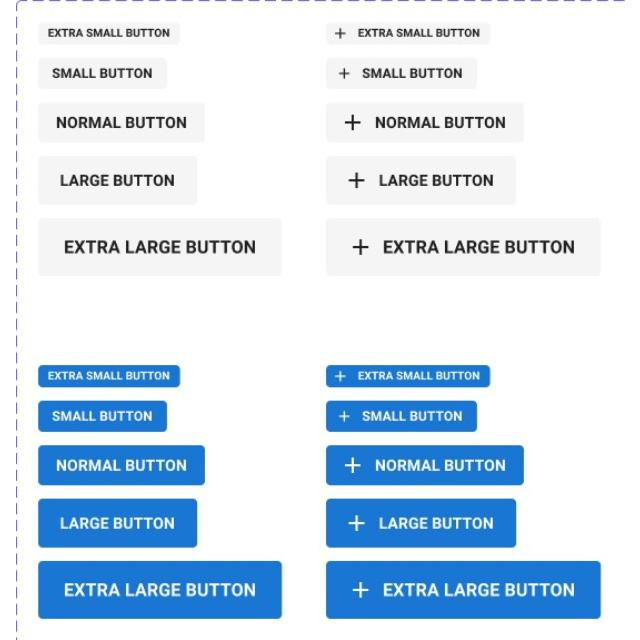QLabel: (60, 237, 260, 255), (63, 580, 260, 598), (378, 582, 576, 598), (377, 240, 575, 254), (367, 458, 505, 472), (52, 458, 188, 472), (370, 115, 504, 129), (51, 115, 188, 128), (55, 516, 177, 530), (374, 173, 494, 187), (374, 516, 494, 530), (46, 27, 170, 39), (54, 174, 178, 186), (51, 66, 152, 80), (42, 370, 174, 380), (358, 67, 466, 79), (48, 410, 156, 422), (357, 410, 465, 422), (355, 370, 481, 380), (356, 28, 480, 38)
VBtn: (324, 560, 602, 620), (324, 217, 600, 275), (36, 216, 280, 278), (36, 560, 280, 618), (324, 156, 518, 207), (325, 498, 517, 548), (325, 444, 525, 486), (325, 101, 523, 142), (36, 498, 198, 548), (37, 156, 196, 204), (36, 444, 205, 486), (38, 101, 204, 142), (325, 399, 479, 433), (325, 58, 477, 88), (36, 399, 166, 433), (37, 59, 166, 90), (325, 21, 489, 45), (326, 364, 490, 388), (36, 364, 180, 388), (37, 22, 179, 44)
VIcon: (347, 172, 365, 188), (344, 115, 361, 131), (351, 239, 367, 255), (348, 515, 364, 531), (344, 457, 360, 473), (352, 582, 368, 598), (333, 27, 345, 39), (338, 67, 350, 79), (334, 371, 346, 382), (338, 412, 348, 422)
